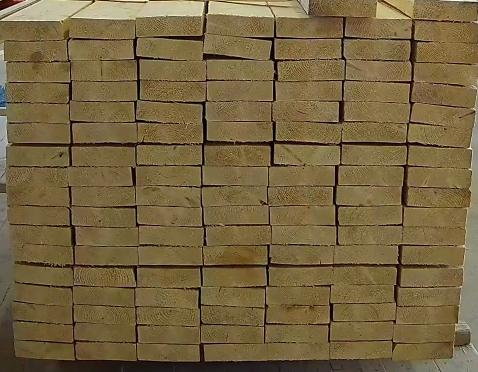Wood-Plank: (205, 34, 273, 60), (276, 14, 344, 39), (414, 82, 478, 108), (67, 17, 136, 41), (412, 103, 476, 128), (0, 19, 67, 42), (137, 37, 203, 60), (278, 59, 346, 81), (274, 144, 341, 166), (415, 63, 478, 86), (137, 100, 202, 122), (410, 125, 472, 148), (346, 17, 413, 38), (204, 145, 271, 166), (136, 16, 203, 37), (68, 39, 134, 60), (4, 39, 67, 61), (71, 60, 137, 81), (410, 146, 473, 168), (137, 145, 202, 166), (203, 186, 268, 207), (208, 15, 273, 36), (207, 60, 275, 80), (70, 101, 134, 122), (276, 123, 340, 144), (203, 267, 267, 288), (344, 40, 411, 60), (275, 40, 342, 60), (139, 60, 206, 80), (276, 81, 342, 101), (207, 81, 273, 101), (273, 102, 339, 122), (68, 167, 133, 187), (72, 124, 137, 144), (347, 60, 412, 80), (345, 82, 410, 102), (345, 102, 410, 122), (207, 122, 272, 142), (339, 166, 404, 186), (270, 166, 335, 186), (206, 226, 271, 246), (269, 267, 334, 287), (201, 288, 266, 308), (13, 322, 72, 344), (6, 145, 67, 166), (71, 208, 135, 228), (72, 81, 136, 101), (206, 102, 270, 122), (138, 124, 202, 144), (343, 146, 407, 166), (339, 206, 403, 226), (271, 206, 335, 226), (271, 246, 335, 266), (137, 268, 201, 288), (15, 244, 73, 266), (415, 22, 478, 42), (6, 62, 69, 82), (71, 147, 134, 167), (401, 268, 464, 288), (140, 82, 206, 101), (414, 43, 476, 63), (7, 124, 69, 144), (7, 206, 69, 226), (204, 246, 266, 266), (408, 169, 473, 188), (203, 167, 268, 186), (204, 206, 269, 225), (272, 227, 337, 246), (15, 284, 71, 306), (10, 226, 71, 246), (74, 268, 135, 288), (71, 187, 135, 206), (136, 167, 200, 186), (136, 188, 200, 207), (269, 187, 333, 206), (137, 207, 201, 226), (339, 227, 403, 246), (402, 247, 466, 266), (398, 288, 462, 307), (12, 304, 72, 324), (73, 288, 133, 308), (6, 83, 69, 102), (335, 267, 398, 286), (75, 247, 137, 266), (336, 246, 398, 265), (267, 287, 329, 306), (343, 124, 408, 142), (338, 188, 403, 206), (407, 189, 472, 207), (14, 266, 72, 286), (7, 104, 68, 123), (414, 2, 478, 20), (404, 208, 468, 226), (138, 248, 202, 266), (267, 306, 331, 324), (307, 0, 378, 16), (139, 228, 202, 246), (135, 290, 198, 308), (332, 286, 395, 304), (7, 188, 69, 206), (74, 324, 136, 342), (75, 228, 137, 246), (404, 228, 466, 246), (137, 308, 199, 326), (266, 326, 328, 344), (331, 342, 393, 360), (332, 324, 394, 342), (398, 307, 460, 325), (334, 304, 396, 322), (202, 308, 264, 326), (7, 168, 68, 186), (14, 342, 75, 360), (75, 344, 136, 362), (74, 306, 135, 324), (395, 326, 456, 344), (137, 327, 200, 344), (201, 327, 264, 344), (204, 345, 266, 362), (267, 344, 329, 361), (137, 346, 200, 362), (394, 345, 455, 361)
